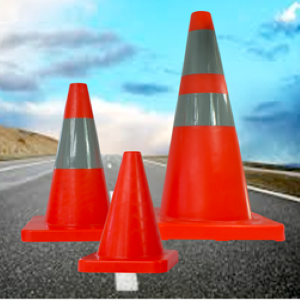traffic cone: (139, 10, 284, 238), (21, 82, 131, 242), (77, 151, 184, 271)
